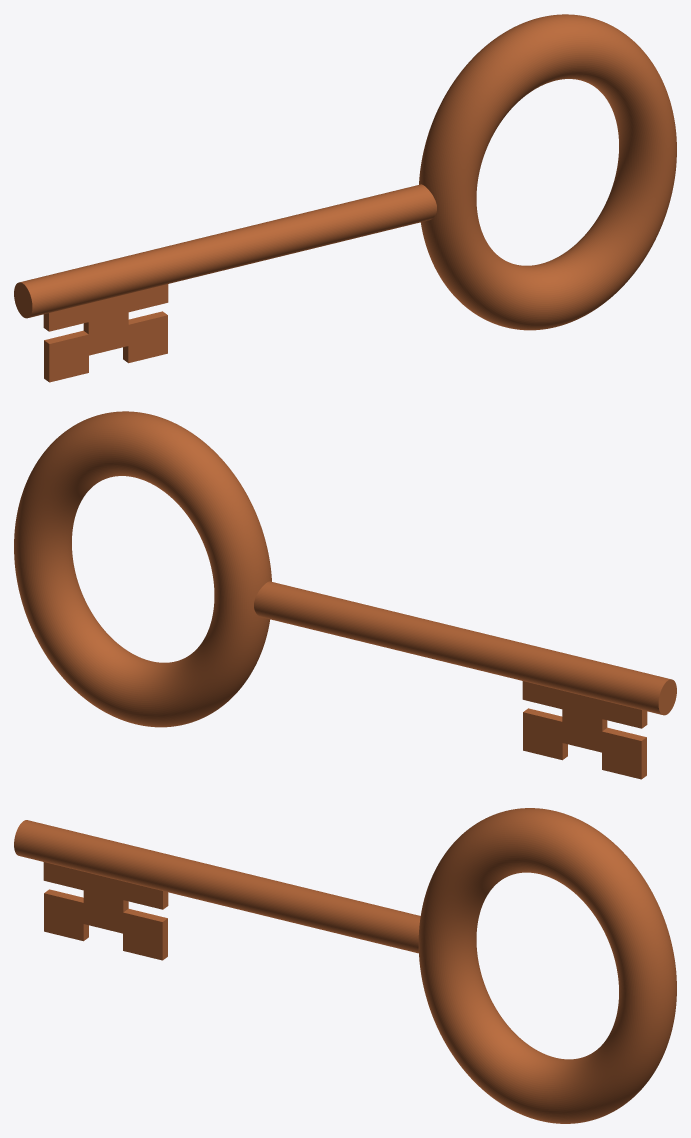
Rendered from Bronze key.fbx.
The picture shows the model from 3 angles, top to bottom: view 1: azimuth 30°, elevation 25°; view 2: azimuth 150°, elevation 25°; view 3: azimuth 330°, elevation 25°; orthographic projection.
Visible parts, largest first — view 1: Bronze key; view 2: Bronze key; view 3: Bronze key.
Boxes of the visible parts, box(x1,y1,x2,y2) form: Bronze key: box(14, 14, 676, 382); Bronze key: box(14, 411, 676, 779); Bronze key: box(14, 808, 676, 1123).
Size of the model in its own units: 34.9 by 15.7 by 3.04.
